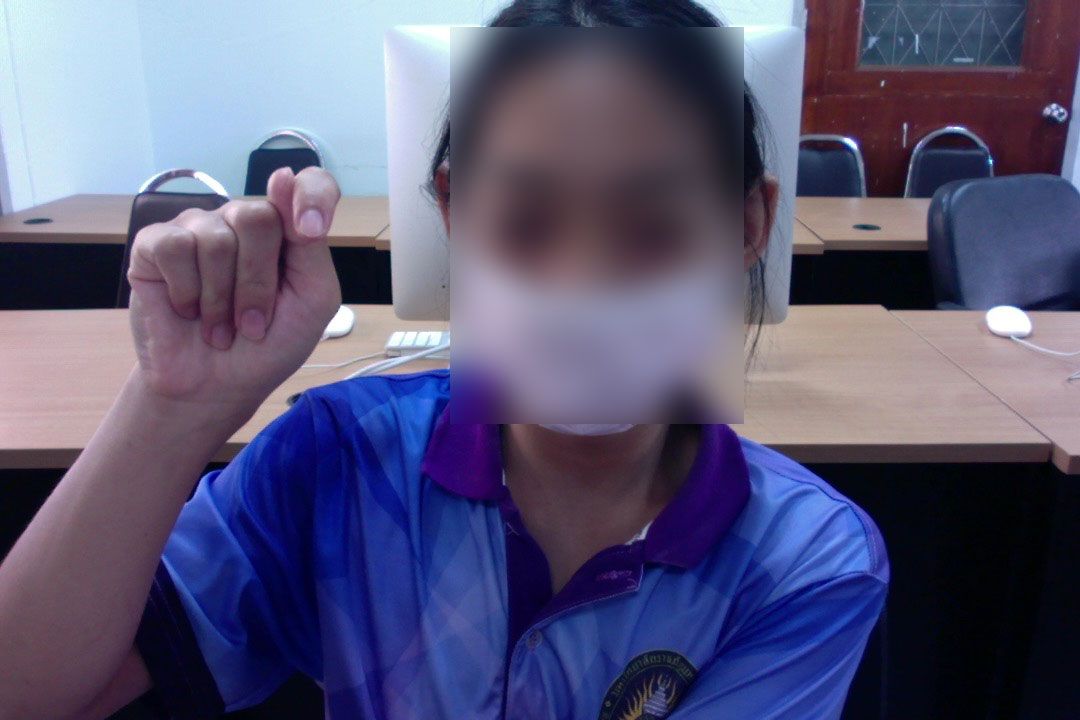tor: (120, 162, 349, 445)
